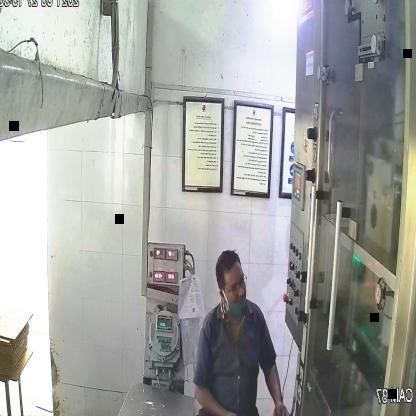goggles: (218, 270, 250, 301)
